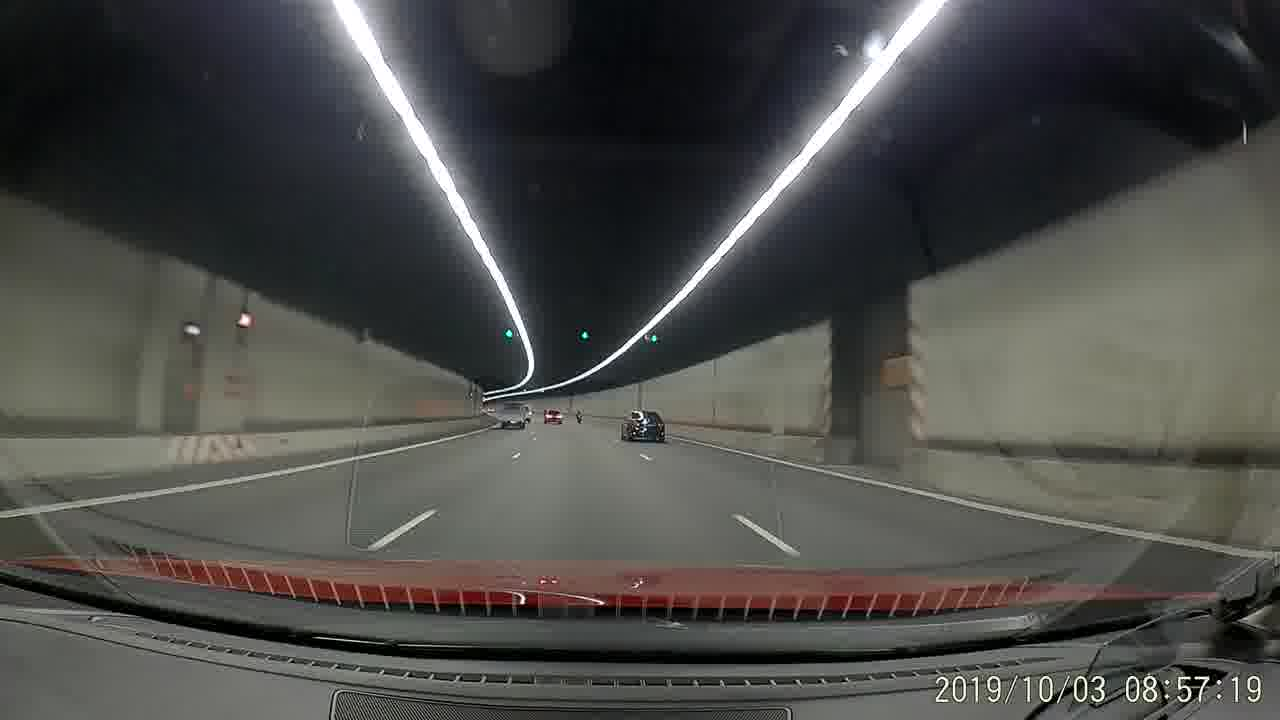car: (618, 406, 666, 444), (542, 407, 563, 425)
